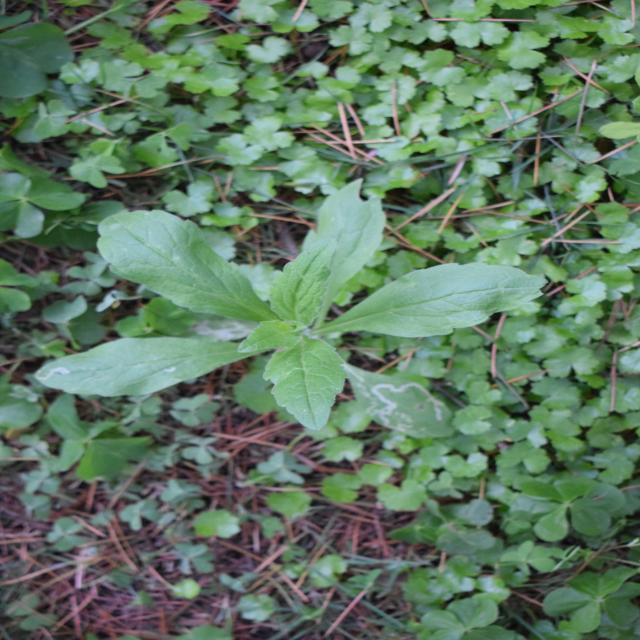horseweed: (214, 23, 435, 516)
